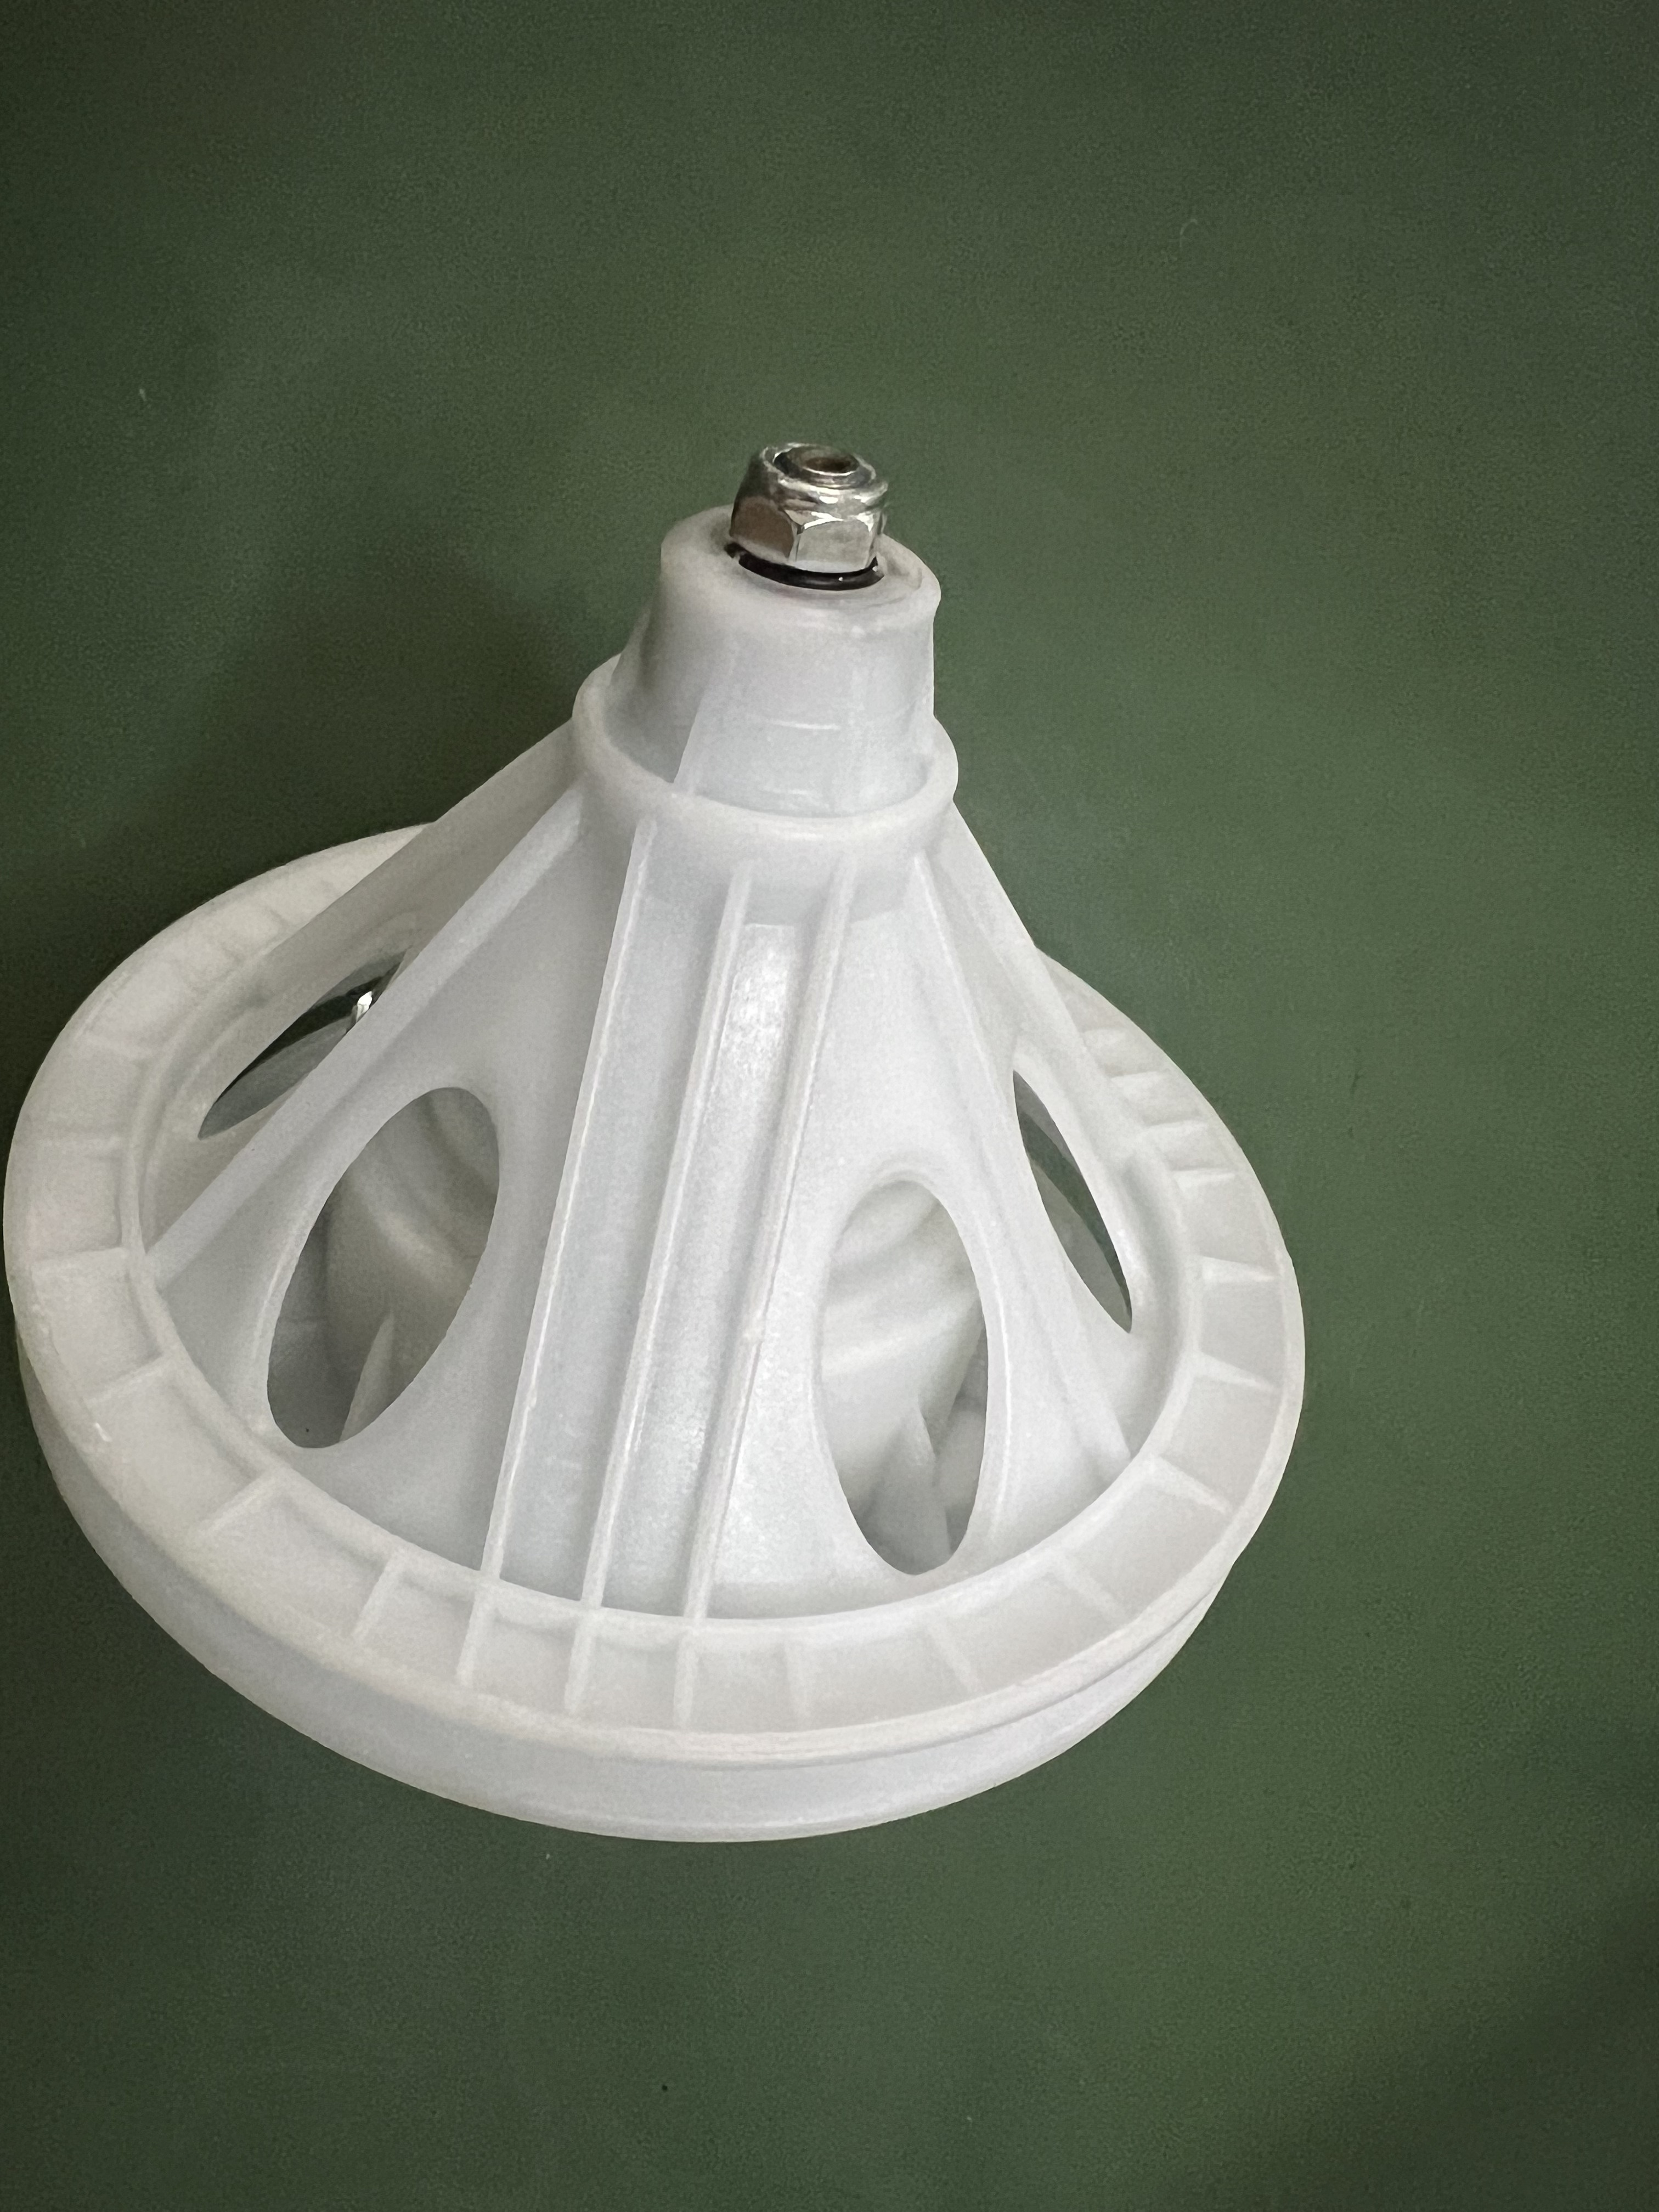gear_box_circle: (30, 456, 1319, 1843)
